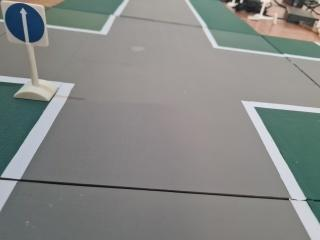straight: (1, 0, 50, 49)
